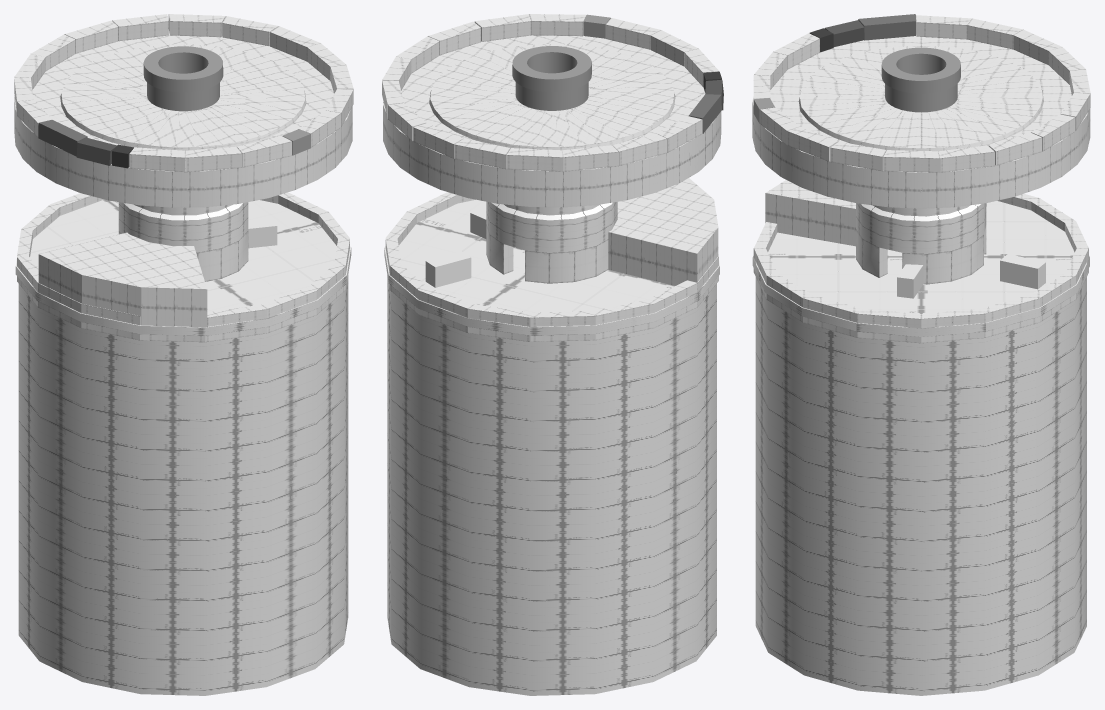
File: Cyl1.fbx
3 views of the same model, side by side, from view 1: azimuth 30°, elevation 25°; view 2: azimuth 150°, elevation 25°; view 3: azimuth 270°, elevation 25° (orthographic).
Visible parts, largest first — view 1: Cylinder__2_, Pipe_1, Pipe__2_, Cyl1, Pipe__3_, Pipe__1_, Cylinder__3_, pCylinder1, Cylinder, Cube__2_, polySurface1; view 2: Cylinder__2_, Pipe_1, Pipe__2_, Cyl1, Pipe__3_, Pipe__1_, Cylinder__3_, pCylinder1, Cylinder, Cube__1_; view 3: Cylinder__2_, Pipe_1, Pipe__2_, Cyl1, Pipe__1_, Cylinder__3_, pCylinder1, Pipe__3_, Cylinder, Cube__1_, Cube__2_, polySurface1.
Boxes of the visible parts, left/top/right/bottom form: Cylinder__2_: left=18, top=199, right=348, bottom=695; Pipe_1: left=14, top=29, right=352, bottom=207; Pipe__2_: left=60, top=44, right=306, bottom=151; Cyl1: left=14, top=14, right=353, bottom=172; Pipe__3_: left=38, top=232, right=207, bottom=327; Pipe__1_: left=17, top=192, right=349, bottom=342; Cylinder__3_: left=118, top=202, right=248, bottom=281; pCylinder1: left=143, top=46, right=223, bottom=111; Cylinder: left=15, top=246, right=351, bottom=335; Cube__2_: left=248, top=218, right=277, bottom=248; polySurface1: left=76, top=138, right=116, bottom=165; Cylinder__2_: left=387, top=199, right=716, bottom=695; Pipe_1: left=383, top=35, right=721, bottom=207; Pipe__2_: left=429, top=44, right=675, bottom=150; Cyl1: left=382, top=14, right=721, bottom=171; Pipe__3_: left=608, top=178, right=718, bottom=285; Pipe__1_: left=385, top=192, right=718, bottom=341; Cylinder__3_: left=486, top=201, right=617, bottom=283; pCylinder1: left=512, top=46, right=591, bottom=110; Cylinder: left=384, top=246, right=719, bottom=335; Cube__1_: left=425, top=251, right=471, bottom=287; Cylinder__2_: left=755, top=201, right=1086, bottom=695; Pipe_1: left=752, top=35, right=1090, bottom=208; Pipe__2_: left=798, top=45, right=1043, bottom=151; Cyl1: left=753, top=14, right=1090, bottom=172; Pipe__1_: left=753, top=193, right=1088, bottom=343; Cylinder__3_: left=856, top=203, right=986, bottom=284; pCylinder1: left=881, top=47, right=960, bottom=112; Pipe__3_: left=765, top=180, right=855, bottom=246; Cylinder: left=752, top=256, right=1089, bottom=336; Cube__1_: left=1000, top=254, right=1045, bottom=289; Cube__2_: left=897, top=264, right=923, bottom=298; polySurface1: left=824, top=20, right=864, bottom=46.
Size of the model in its own units: 2530 by 4616 by 2520.
Materials: 7 (1 with a texture image).
